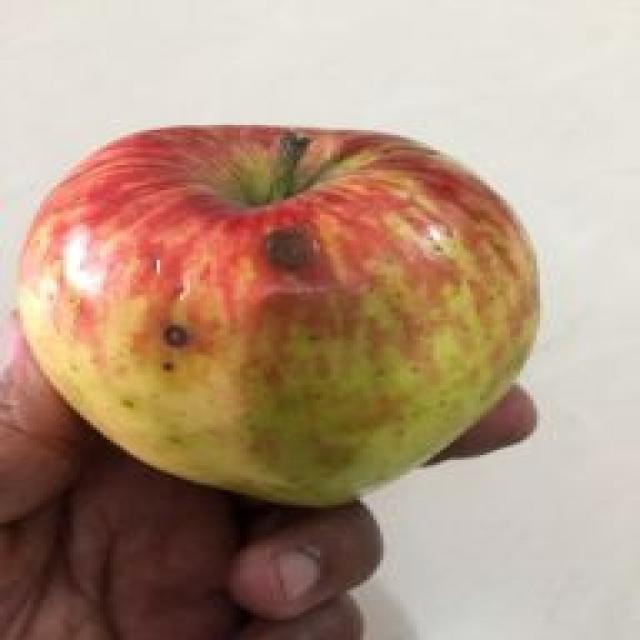Bad_Apple: (18, 126, 538, 506)
